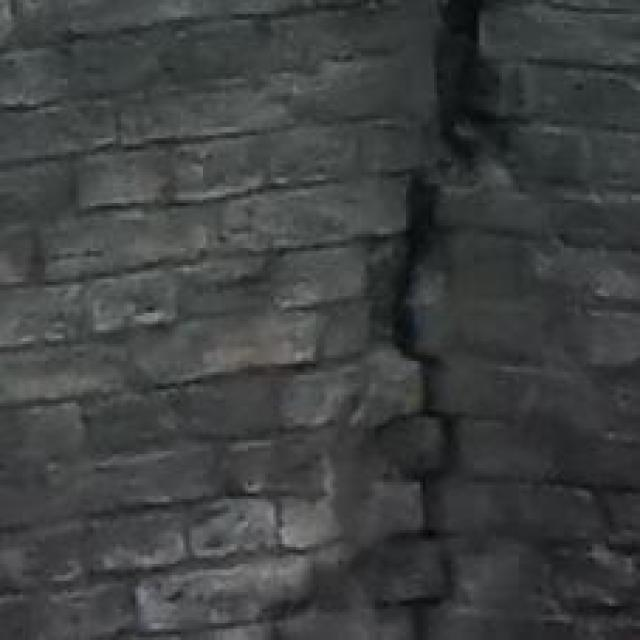Crack: (346, 0, 560, 640)
